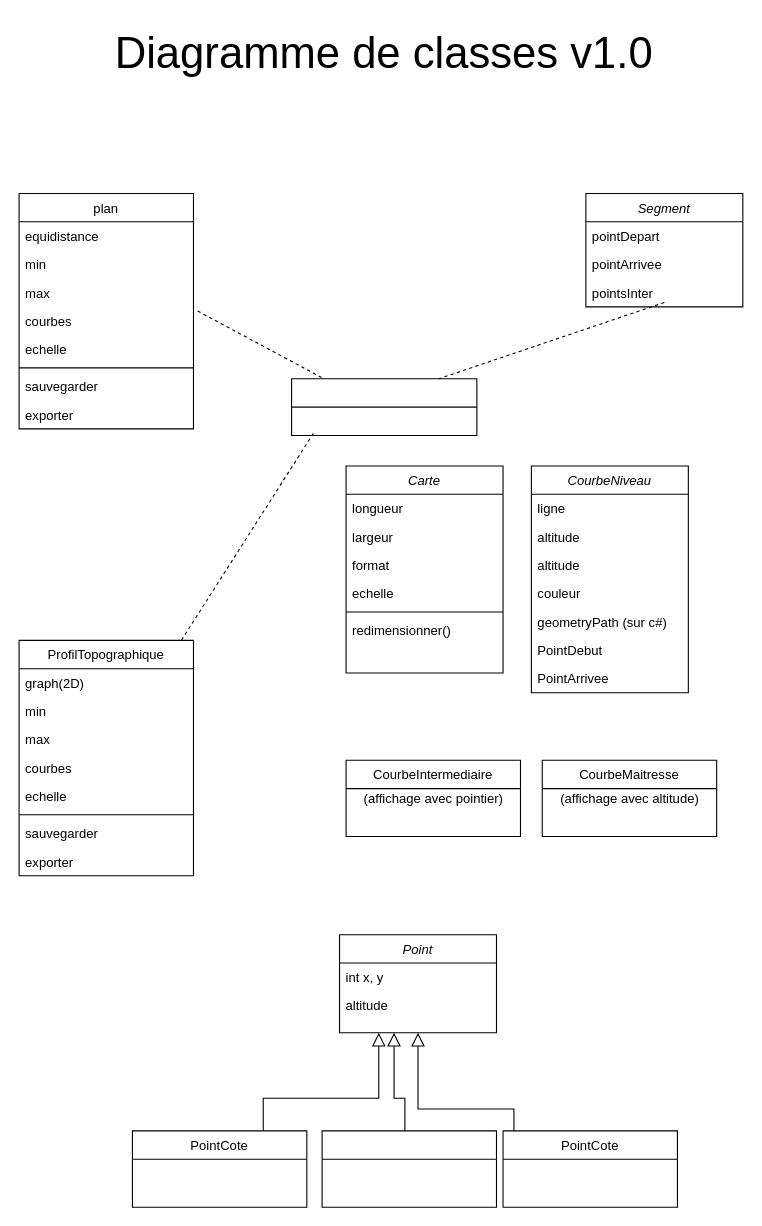
Some shapes in this 762 by 1226 pixel diagram are drawn without their labels. The centre of each missing label's shape, as x and y in pixels:
"PointsIntersections(Interface)" belongs at point (383, 406).
"PointSommet" belongs at point (408, 1168).
